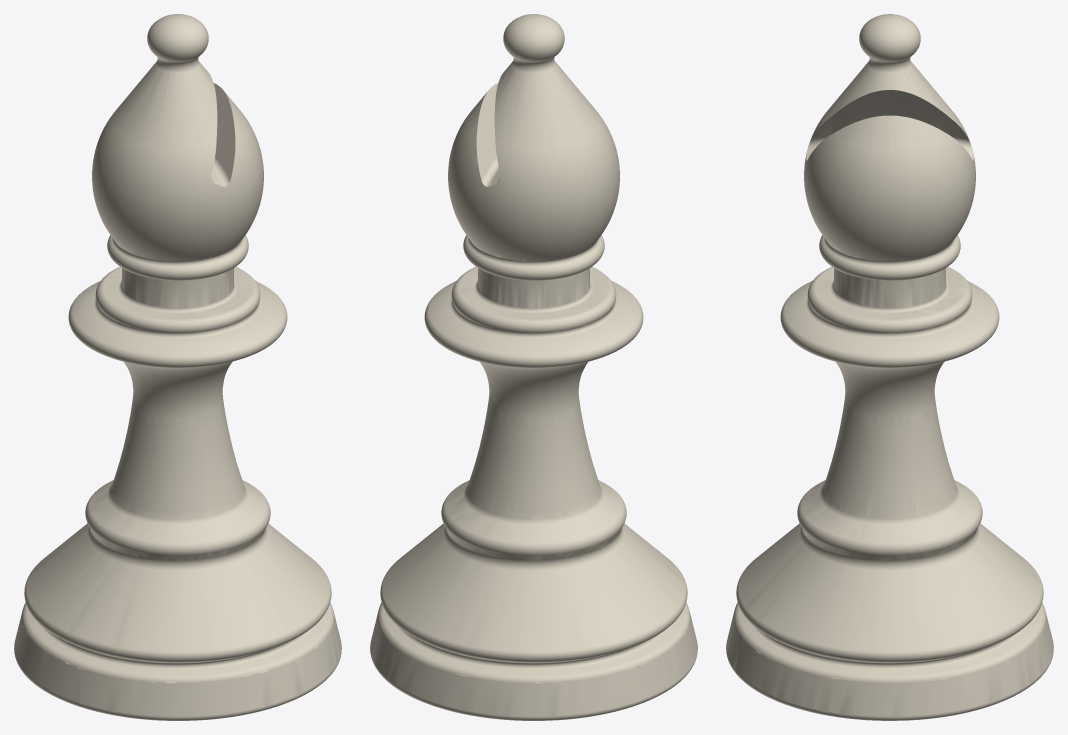
The model's file is alfil.glb.
3 views of the same model, side by side, from view 1: azimuth 30°, elevation 25°; view 2: azimuth 150°, elevation 25°; view 3: azimuth 270°, elevation 25° (orthographic).
Visible parts, largest first — view 1: Object_2; view 2: Object_2; view 3: Object_2.
Boxes of the visible parts, x1=… form: Object_2: x1=14, y1=14, x2=341, y2=720; Object_2: x1=370, y1=14, x2=697, y2=720; Object_2: x1=726, y1=14, x2=1053, y2=720.
Size of the model in its own units: 35.68 by 76.38 by 35.68.
